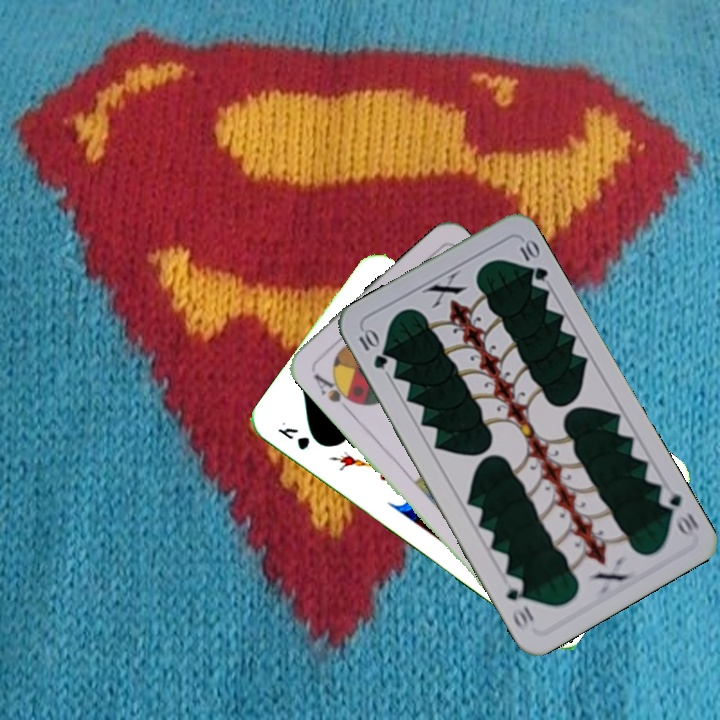G10: (654, 483, 702, 540), (354, 325, 390, 372)
GK: (274, 423, 313, 453)
SA: (310, 370, 360, 415)
